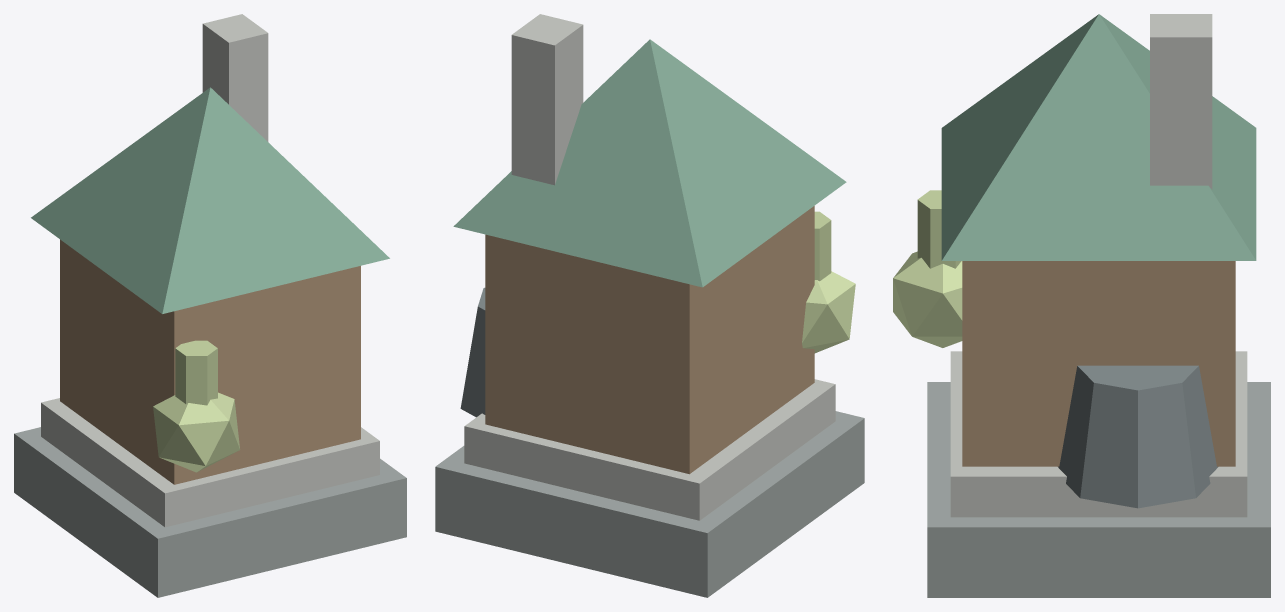
The model's file is human_alchemist_t1.glb.
The picture shows the model from 3 angles, left to right: view 1: azimuth 30°, elevation 25°; view 2: azimuth 150°, elevation 25°; view 3: azimuth 270°, elevation 25°; orthographic projection. The views are drawn at different scales.
Visible parts, largest first — view 1: human_alchemist_t1_MAT_wood, human_alchemist_t1_MAT_leaf, human_alchemist_t1_MAT_dark, human_alchemist_t1_MAT_stone, human_alchemist_t1_MAT_poison; view 2: human_alchemist_t1_MAT_wood, human_alchemist_t1_MAT_leaf, human_alchemist_t1_MAT_dark, human_alchemist_t1_MAT_stone, human_alchemist_t1_MAT_poison, human_alchemist_t1_MAT_iron; view 3: human_alchemist_t1_MAT_leaf, human_alchemist_t1_MAT_wood, human_alchemist_t1_MAT_dark, human_alchemist_t1_MAT_stone, human_alchemist_t1_MAT_iron, human_alchemist_t1_MAT_poison.
Boxes of the visible parts, left/top/right/bottom form: human_alchemist_t1_MAT_wood: left=60, top=239, right=360, bottom=484; human_alchemist_t1_MAT_leaf: left=31, top=87, right=389, bottom=313; human_alchemist_t1_MAT_dark: left=14, top=427, right=406, bottom=597; human_alchemist_t1_MAT_stone: left=41, top=14, right=379, bottom=527; human_alchemist_t1_MAT_poison: left=153, top=340, right=239, bottom=472; human_alchemist_t1_MAT_wood: left=485, top=206, right=814, bottom=474; human_alchemist_t1_MAT_leaf: left=453, top=39, right=846, bottom=287; human_alchemist_t1_MAT_dark: left=435, top=411, right=864, bottom=597; human_alchemist_t1_MAT_stone: left=464, top=14, right=835, bottom=520; human_alchemist_t1_MAT_poison: left=802, top=211, right=855, bottom=353; human_alchemist_t1_MAT_iron: left=460, top=287, right=485, bottom=417; human_alchemist_t1_MAT_leaf: left=941, top=14, right=1256, bottom=260; human_alchemist_t1_MAT_wood: left=962, top=261, right=1235, bottom=466; human_alchemist_t1_MAT_dark: left=927, top=382, right=1270, bottom=597; human_alchemist_t1_MAT_stone: left=950, top=14, right=1247, bottom=517; human_alchemist_t1_MAT_iron: left=1058, top=365, right=1218, bottom=508; human_alchemist_t1_MAT_poison: left=893, top=190, right=962, bottom=347.
Size of the model in its own units: 0.97 by 1.51 by 0.9676.
